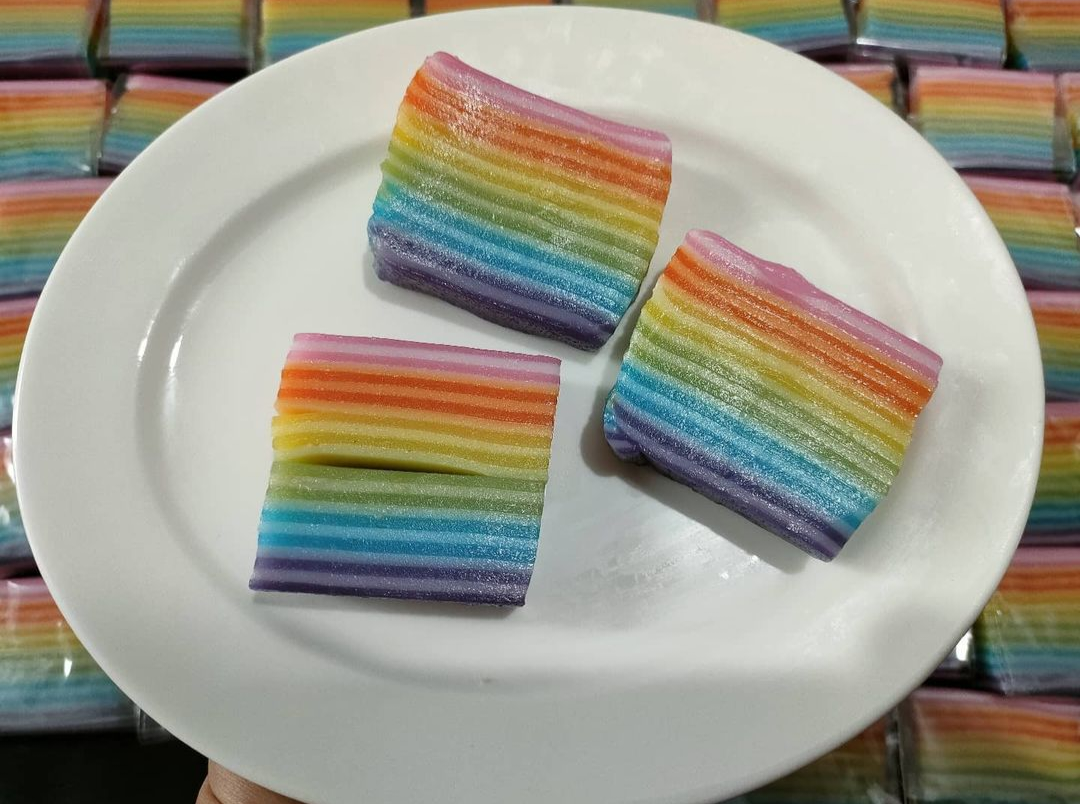kue_lapis_pelangi: (596, 230, 947, 563), (365, 50, 672, 352), (246, 333, 560, 607)
